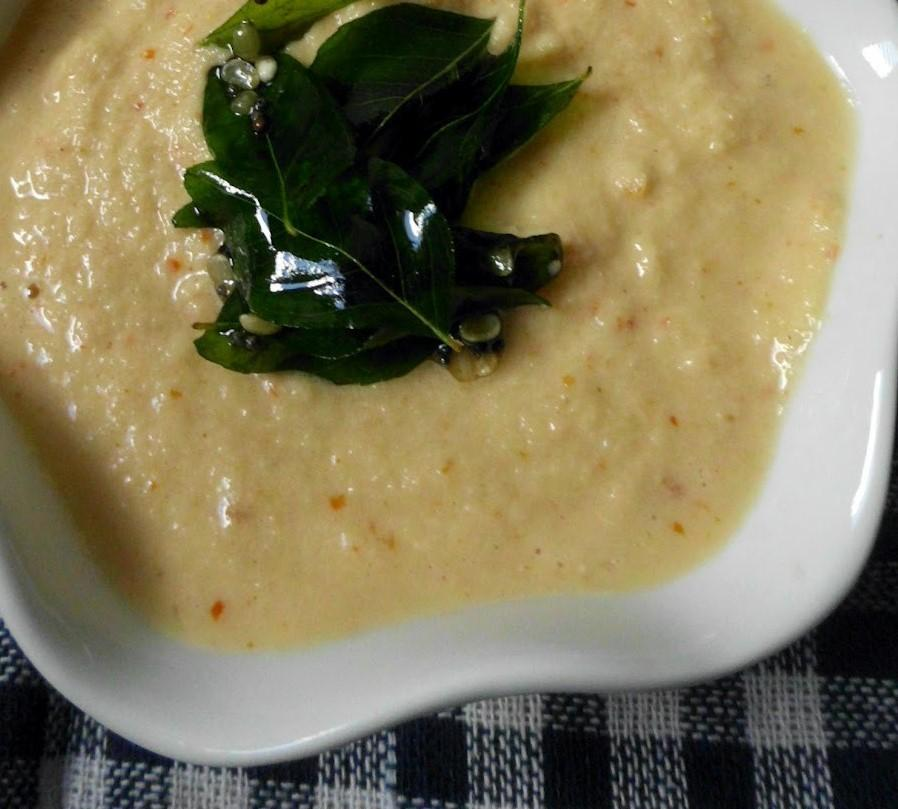CoconutChutney: (0, 0, 857, 647)
